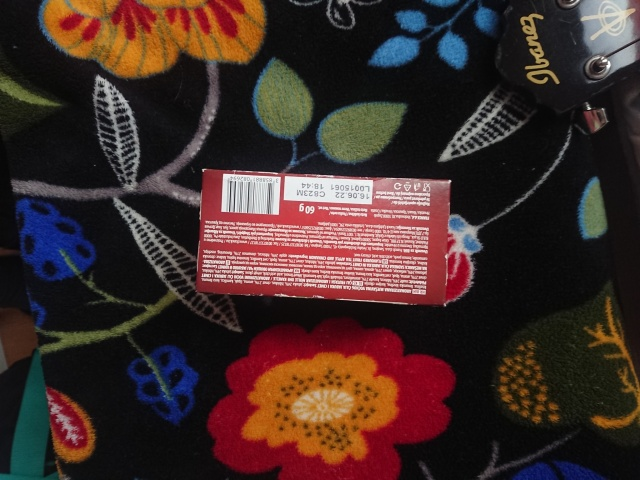Franck Apple Cinnamon Tea 60g: (194, 167, 453, 308)
